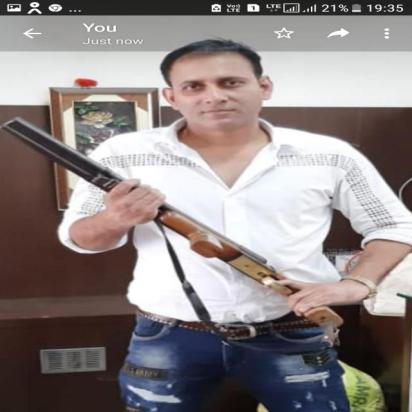Gun: (0, 114, 348, 331)
